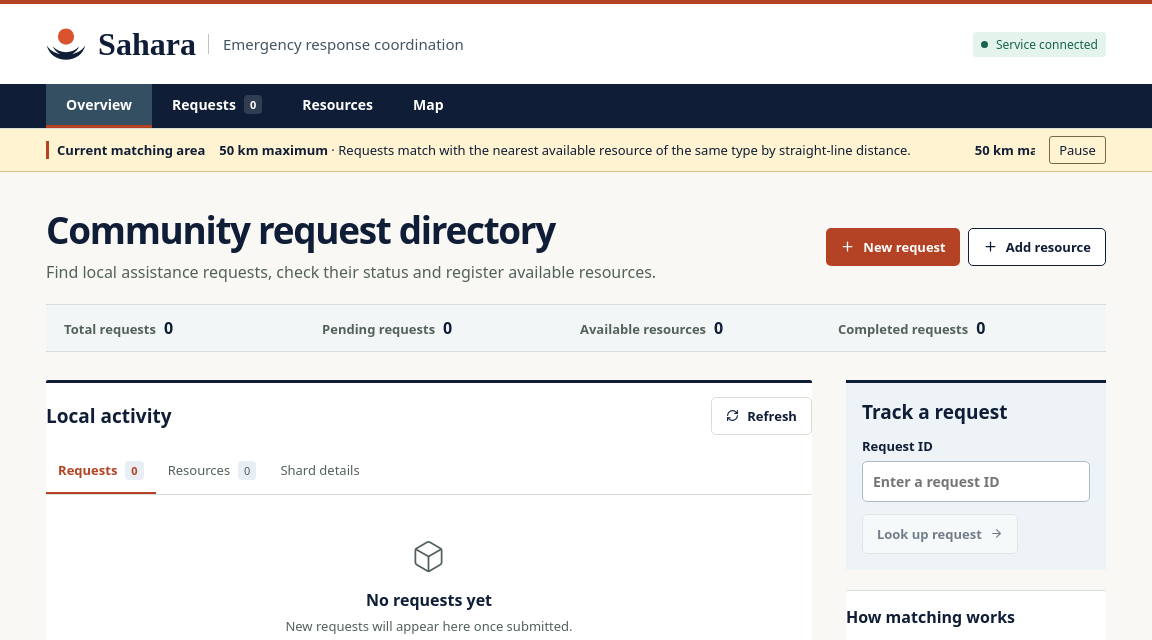
looks up an unknown request without inventing a result
The image size is (1152, 640).
In the field labelled "Request ID": (976, 481) [862,461,1090,502], type "missing"
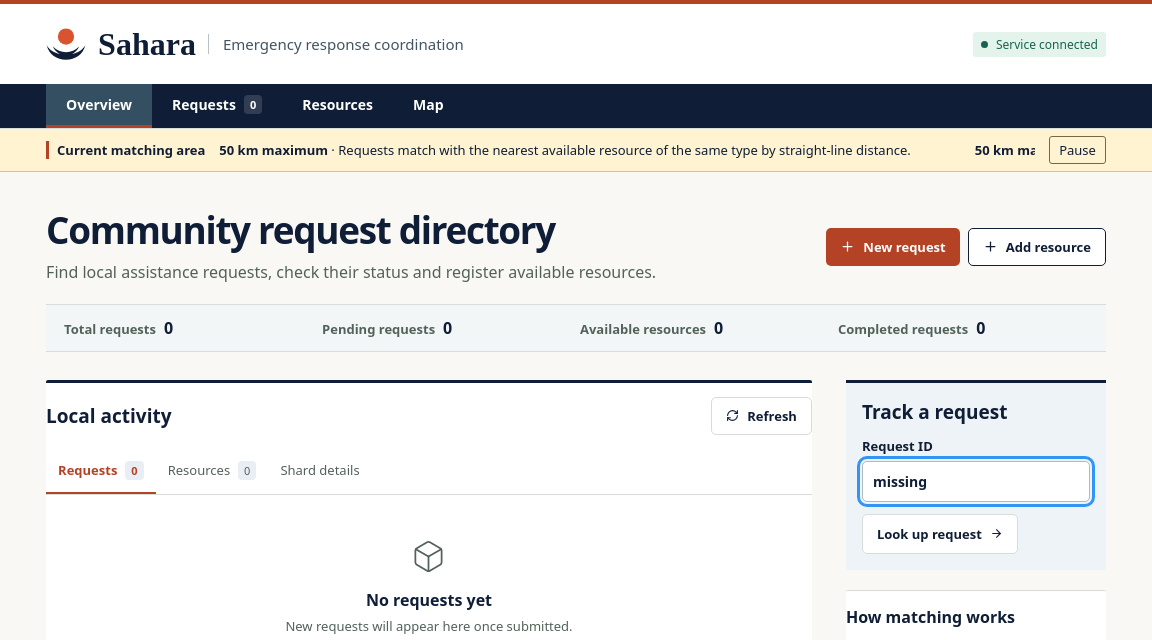
Click the button "Look up request": (940, 534) [862,514,1018,554]
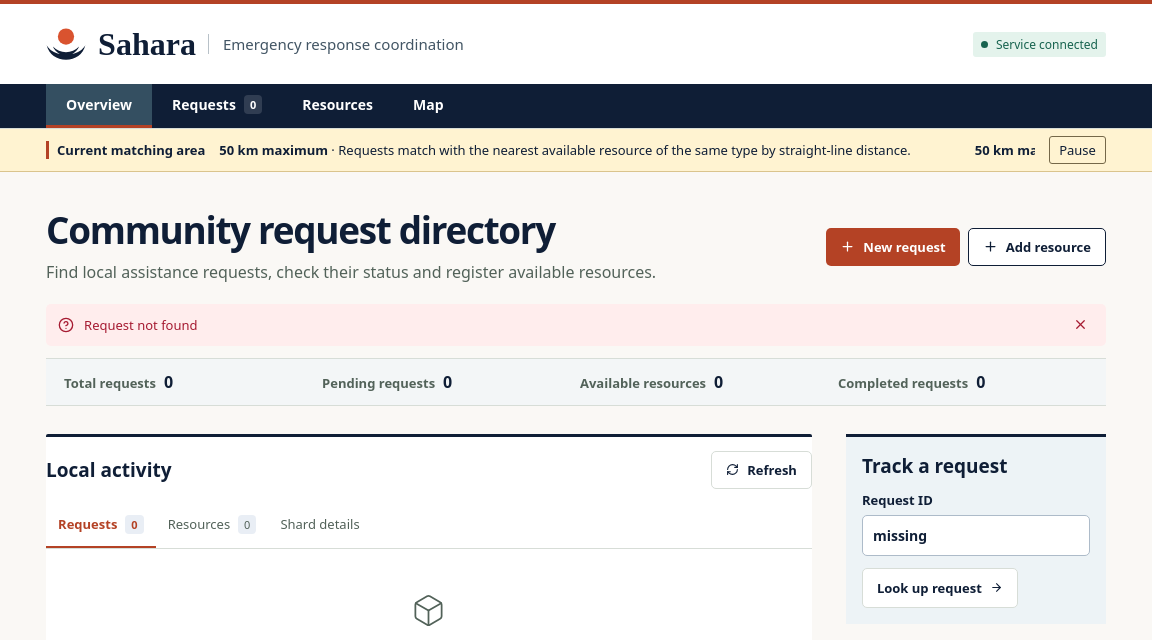
expect the message reads "Request not found": met, box [84,316,198,334]
